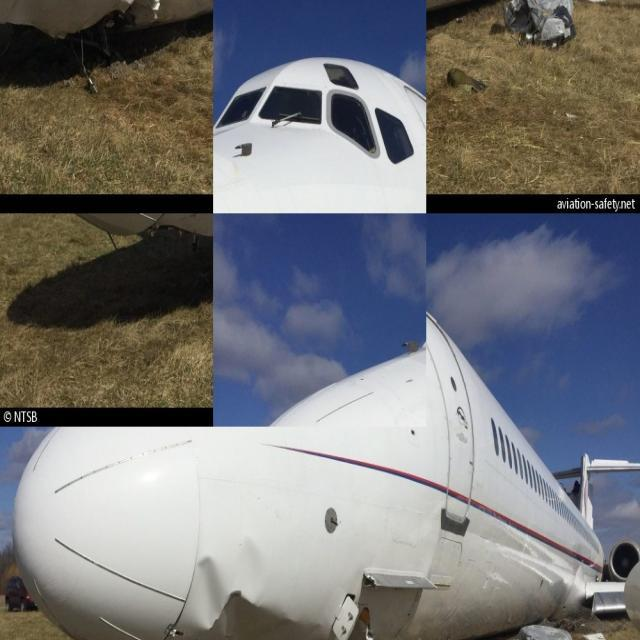dent: (198, 555, 230, 631), (235, 543, 267, 610)
